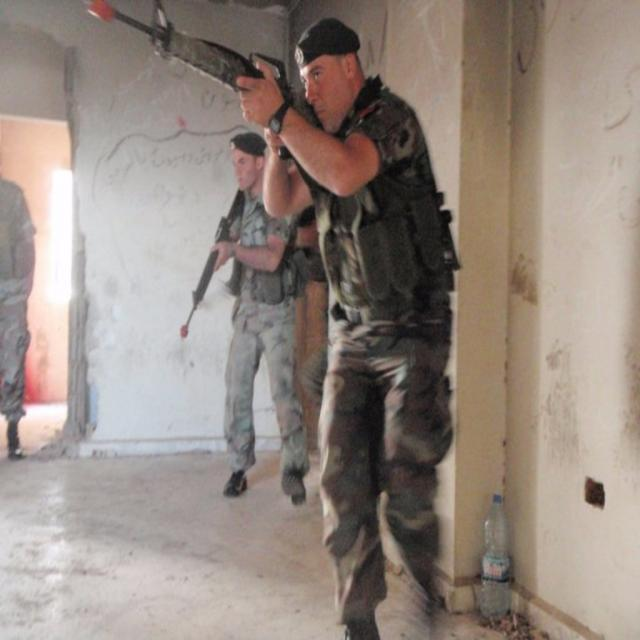weapon: (84, 0, 318, 178), (177, 186, 246, 343)
